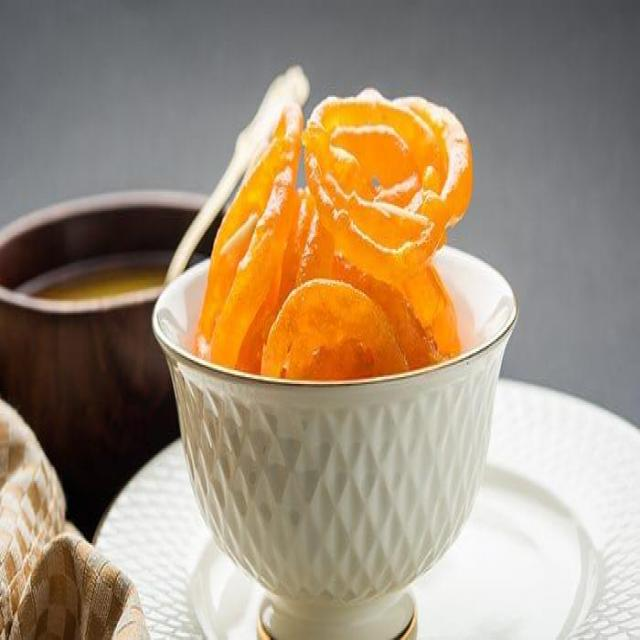jalebi: (213, 105, 466, 375)
